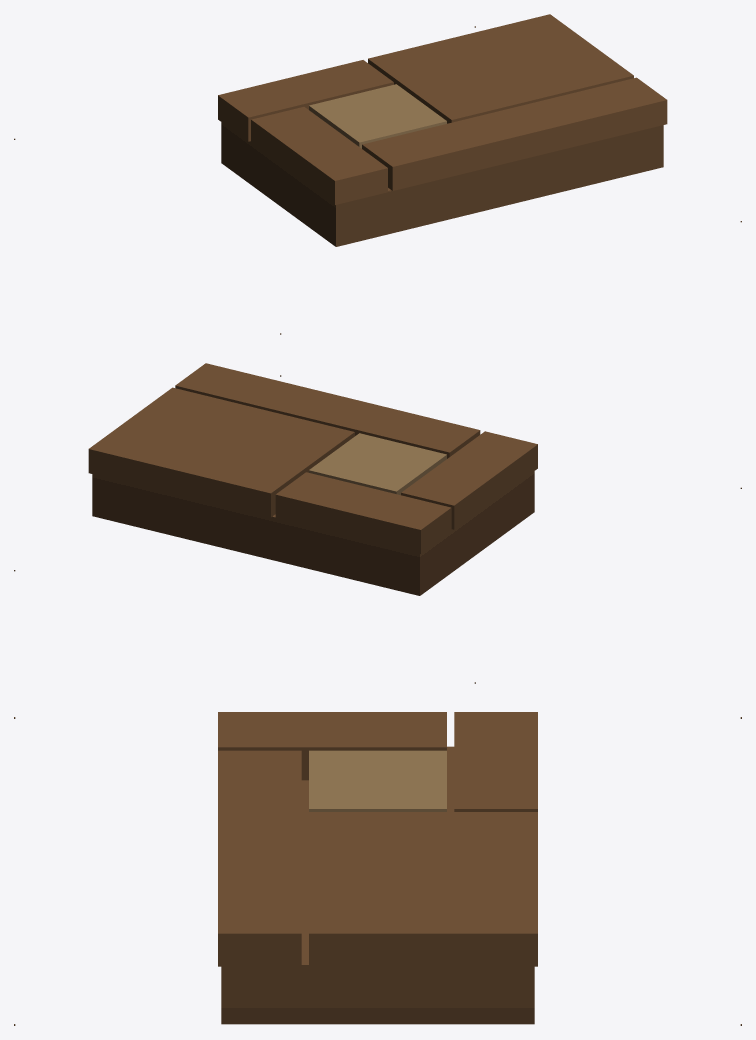
The model's file is floor_wood_end.glb.
3 views of the same model, one above another, from view 1: azimuth 30°, elevation 25°; view 2: azimuth 150°, elevation 25°; view 3: azimuth 270°, elevation 25° (orthographic). The views are drawn at different scales.
Size of the model in its own units: 1 by 0.14 by 1.
Materials: 1 (1 with a texture image).
